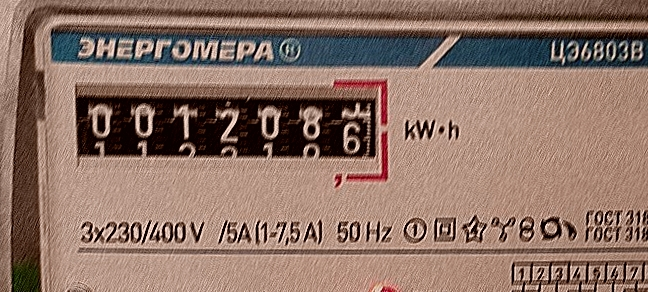0: (85, 100, 112, 140), (129, 102, 154, 139), (254, 104, 279, 140)
1: (171, 102, 193, 141)
2: (213, 106, 240, 145)
6: (336, 119, 360, 156)
8: (295, 104, 321, 141)
screen: (65, 72, 395, 191)
